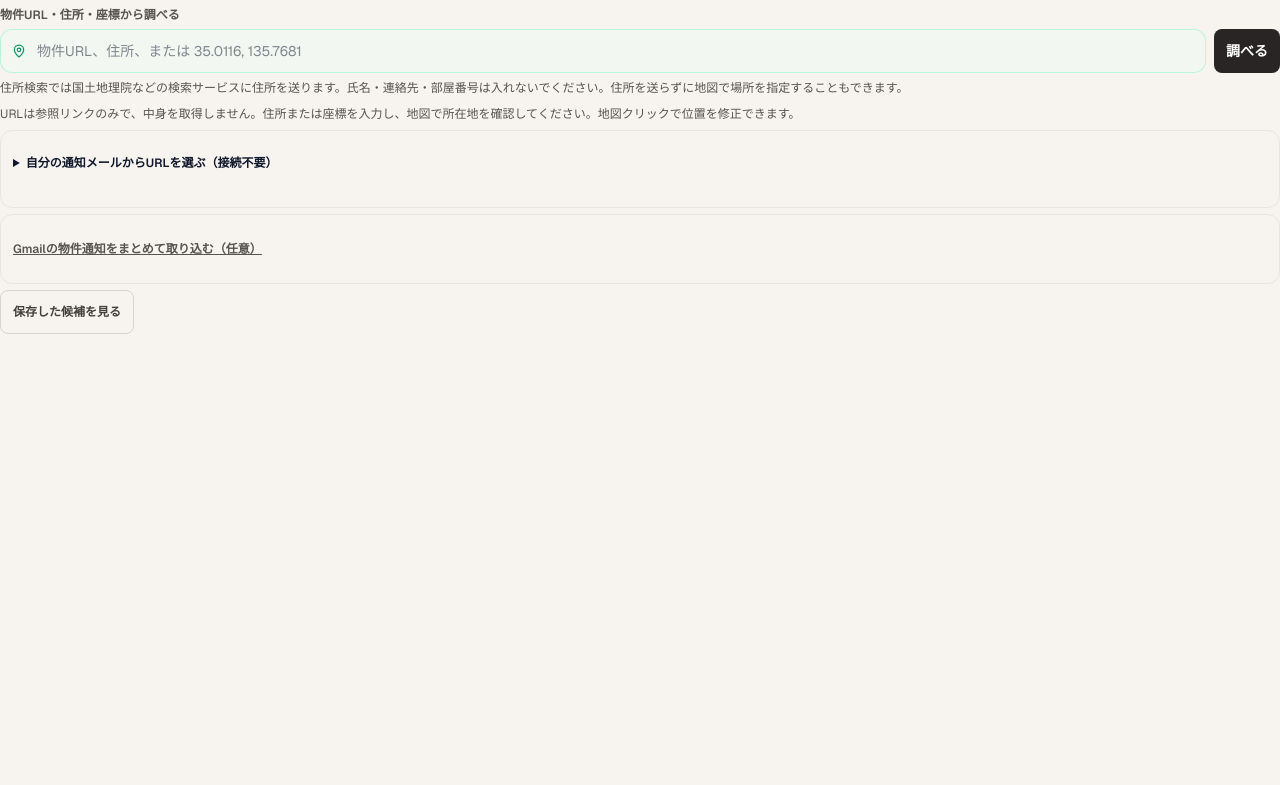
Test: Gmail URL selection reaches Phase 1, which still requires a location
Click the button "Gmailの物件通知をまとめて取り込む（任意）".
click(137, 249)  # box [13,227,262,271]
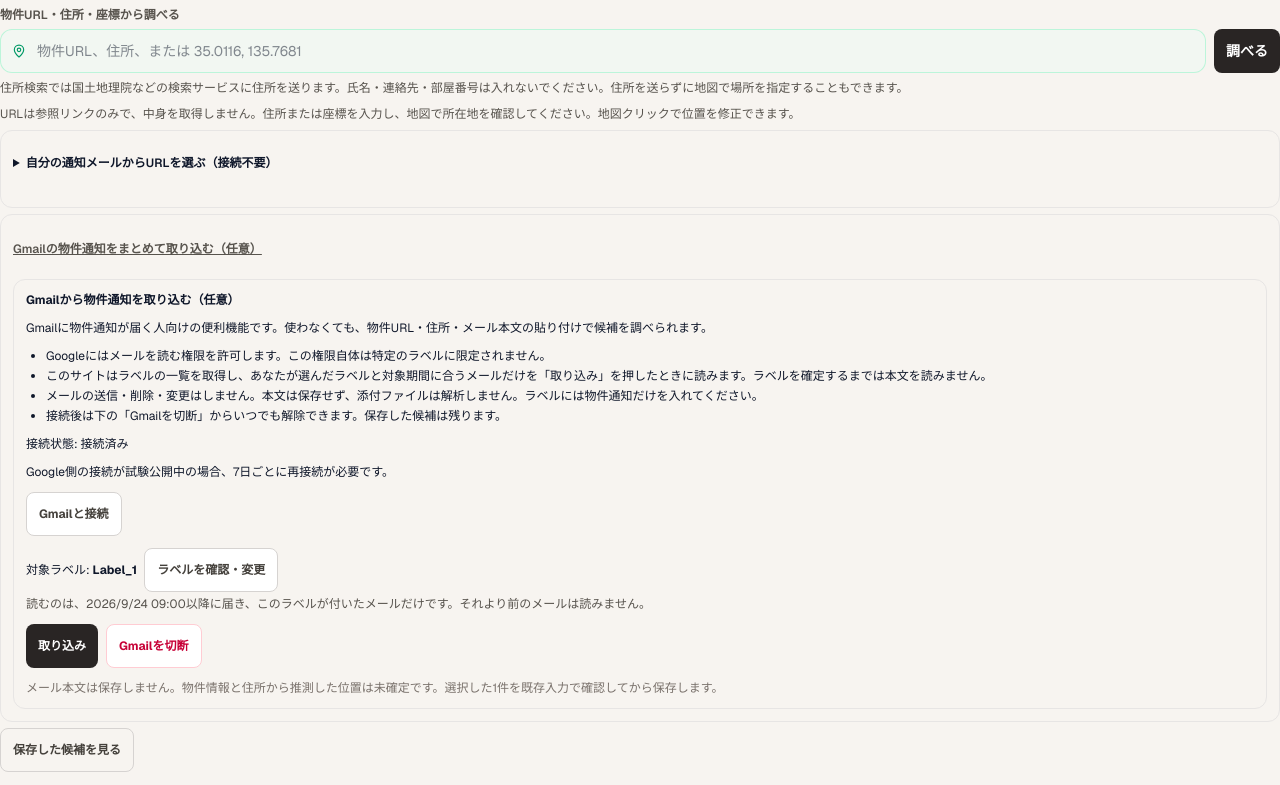
expect the text "接続状態: 接続済み" is shown: met, box [26,436,129,452]
Click the button "取り込み".
click(62, 646)  # box [26,624,98,668]
(page scrolled)
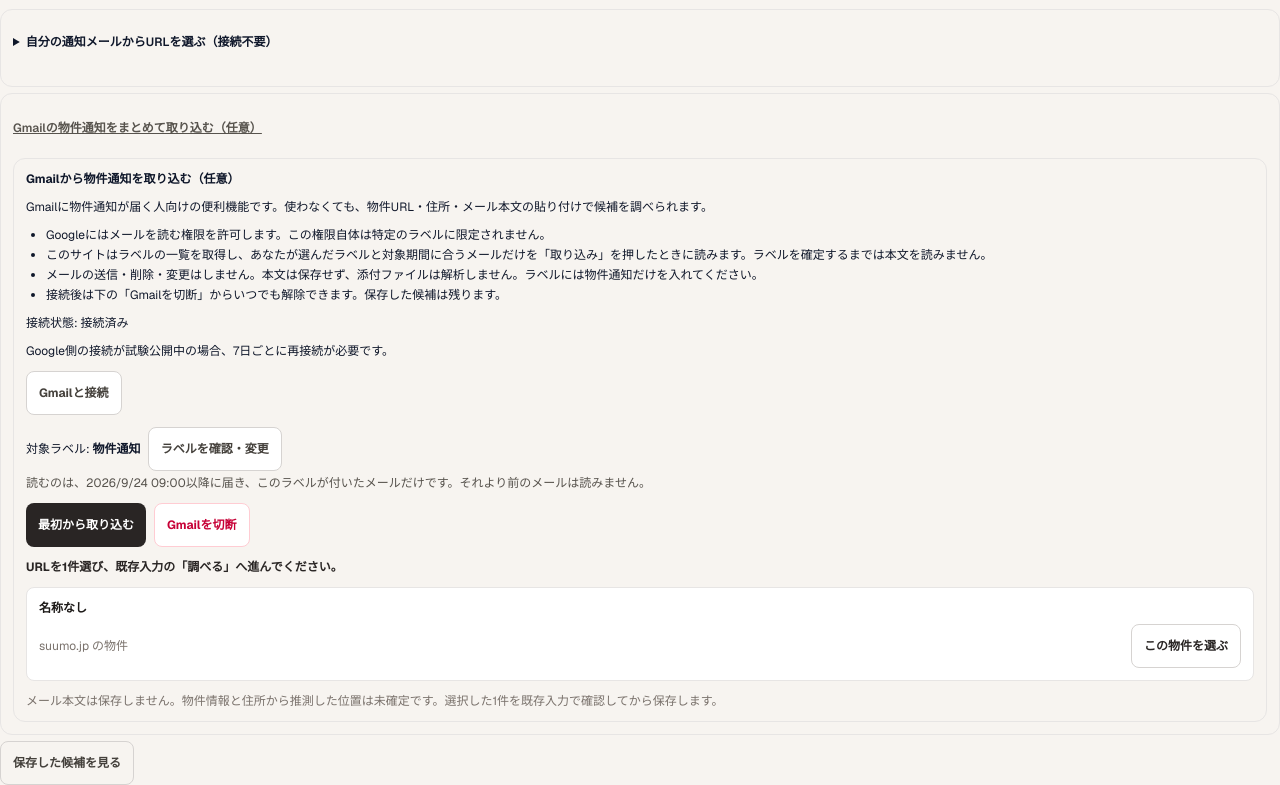
Click the button named "https://suumo.jp/a：この物件を選ぶ".
click(1186, 646)  # box [1131,624,1241,668]
(page scrolled)
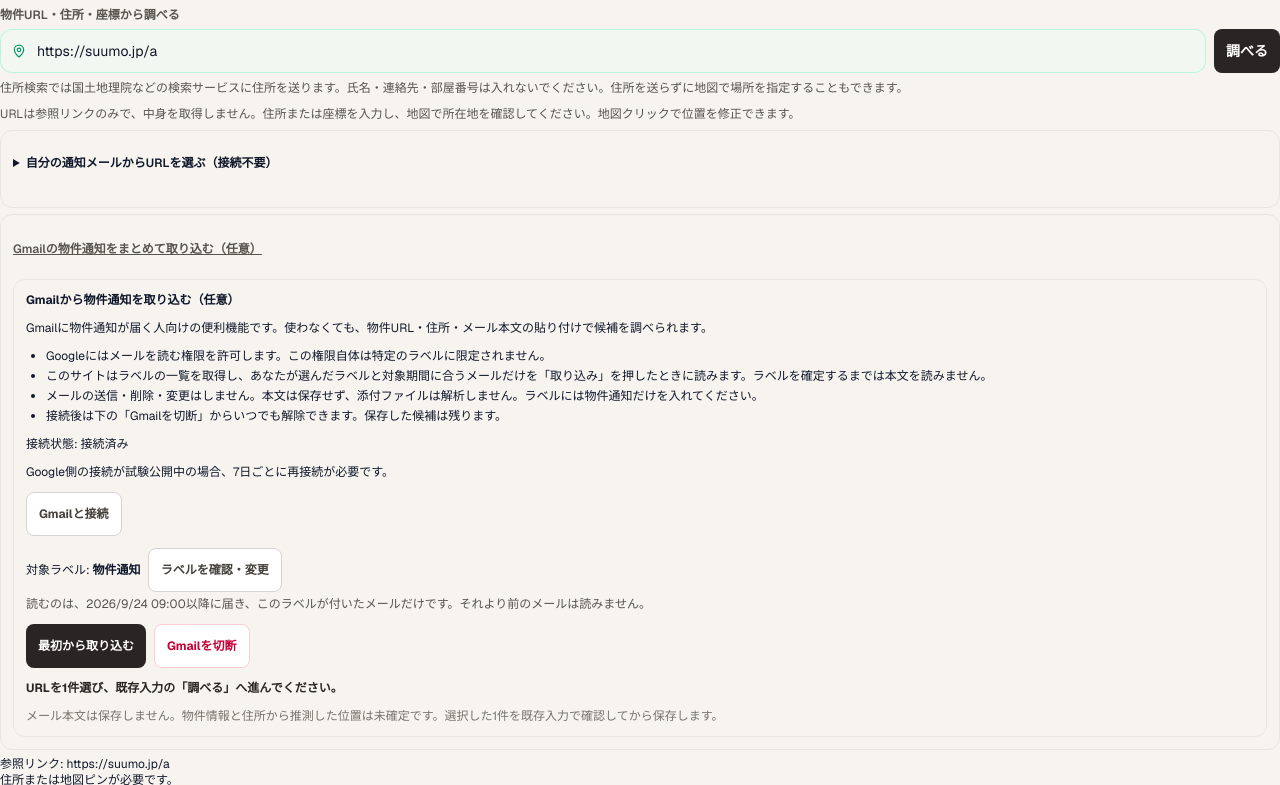
expect the field labelled "物件URL・住所・座標から調べる" holds "https://suumo.jp/a": met, box [0,29,1206,73]
Click the button "調べる".
click(1247, 51)  # box [1214,29,1279,73]
(page scrolled)
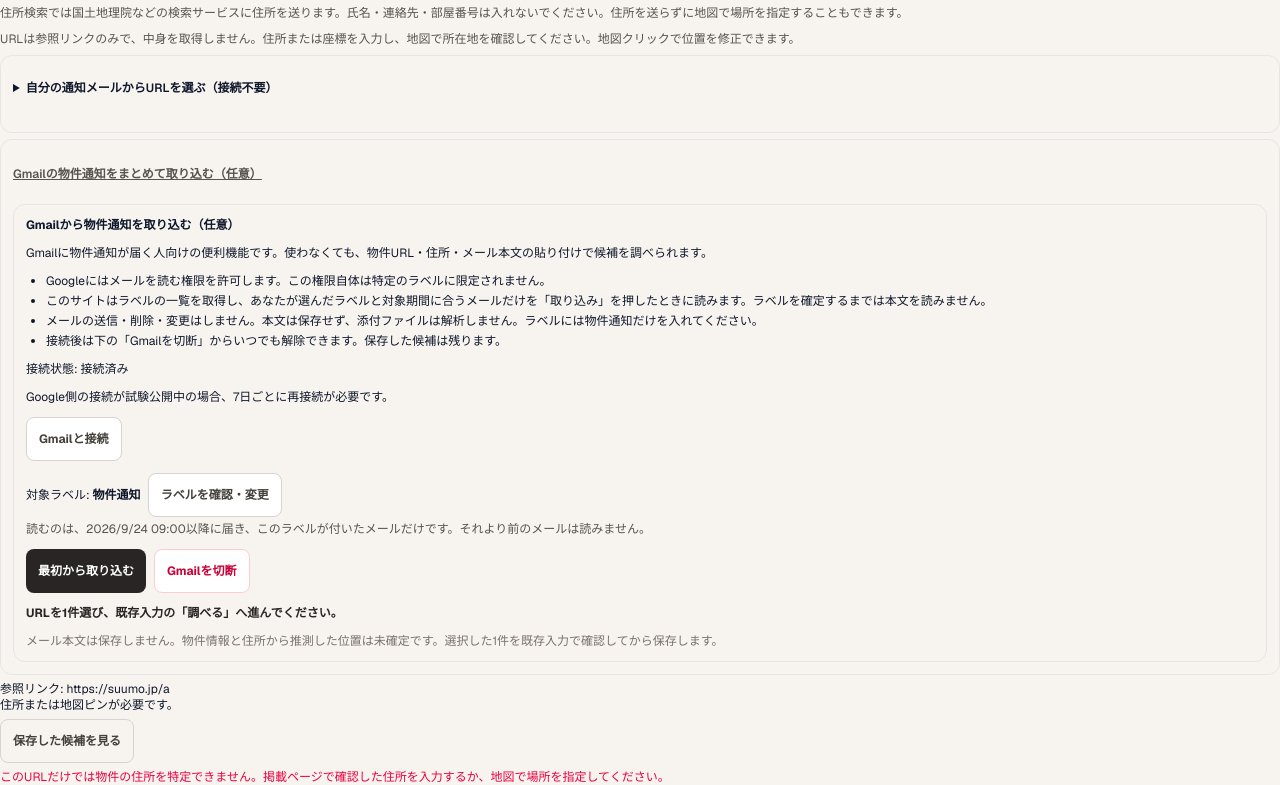
expect the text "このURLだけでは物件の住所を特定できません。掲載ページで確認した住所を入力するか、地図で場所を指定してください。" is shown: met, box [0,769,670,784]
